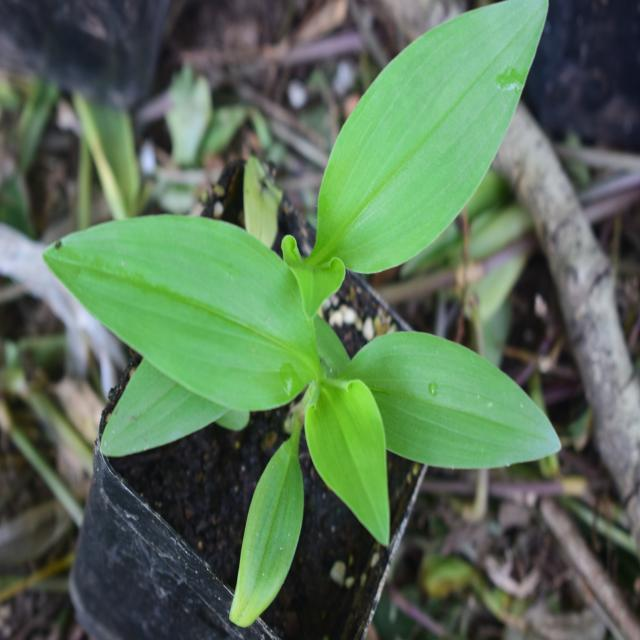Common Dayflower: (52, 209, 566, 545), (294, 0, 546, 224)
